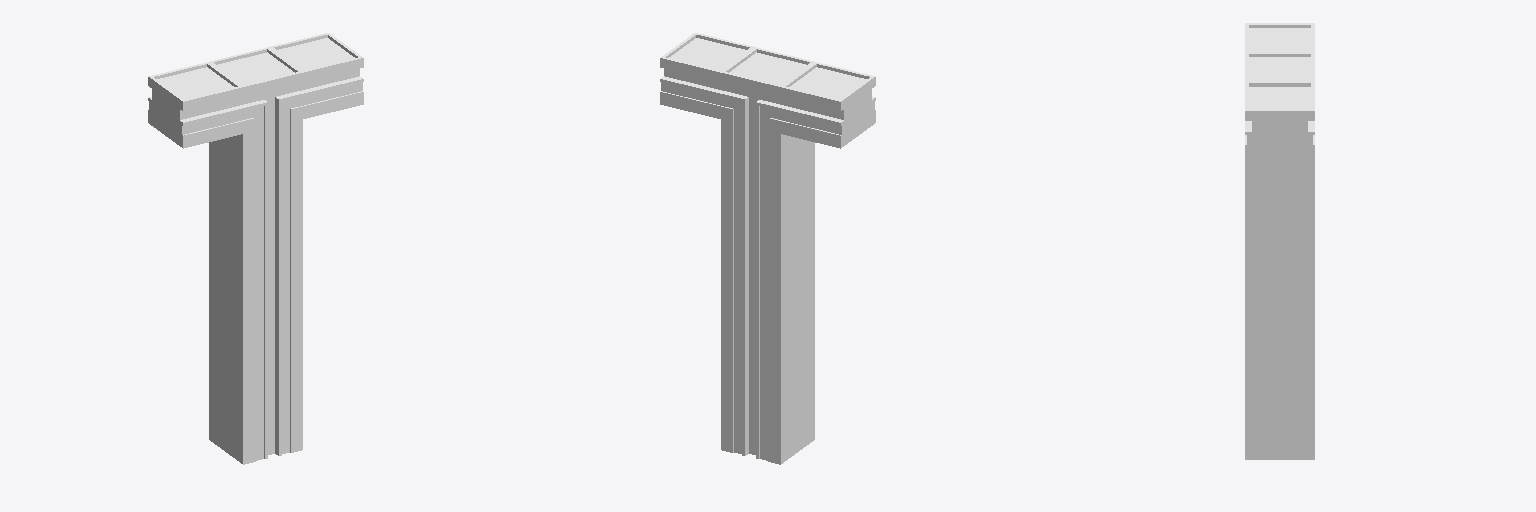
The model's file is GloryCubeYseg1-5-VertPlat.obj.
3 renders of one model, left to right at view 1: azimuth 30°, elevation 25°; view 2: azimuth 150°, elevation 25°; view 3: azimuth 270°, elevation 25°, orthographic.
Visible parts, largest first — view 1: VertPlat; view 2: VertPlat; view 3: VertPlat.
Boxes of the visible parts, x1,y1,x2,y2 form: VertPlat: [148, 33, 363, 464]; VertPlat: [660, 33, 875, 464]; VertPlat: [1245, 23, 1314, 459].
Size of the model in its own units: 11.7 by 23.4 by 3.9.